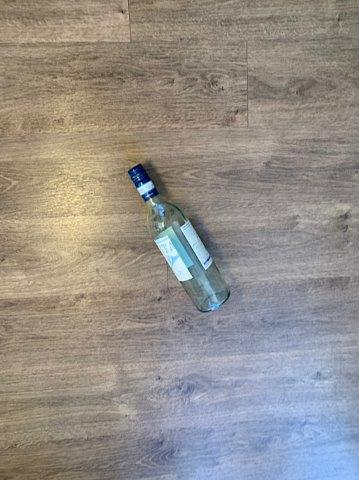botolkaca: (130, 164, 229, 312)
